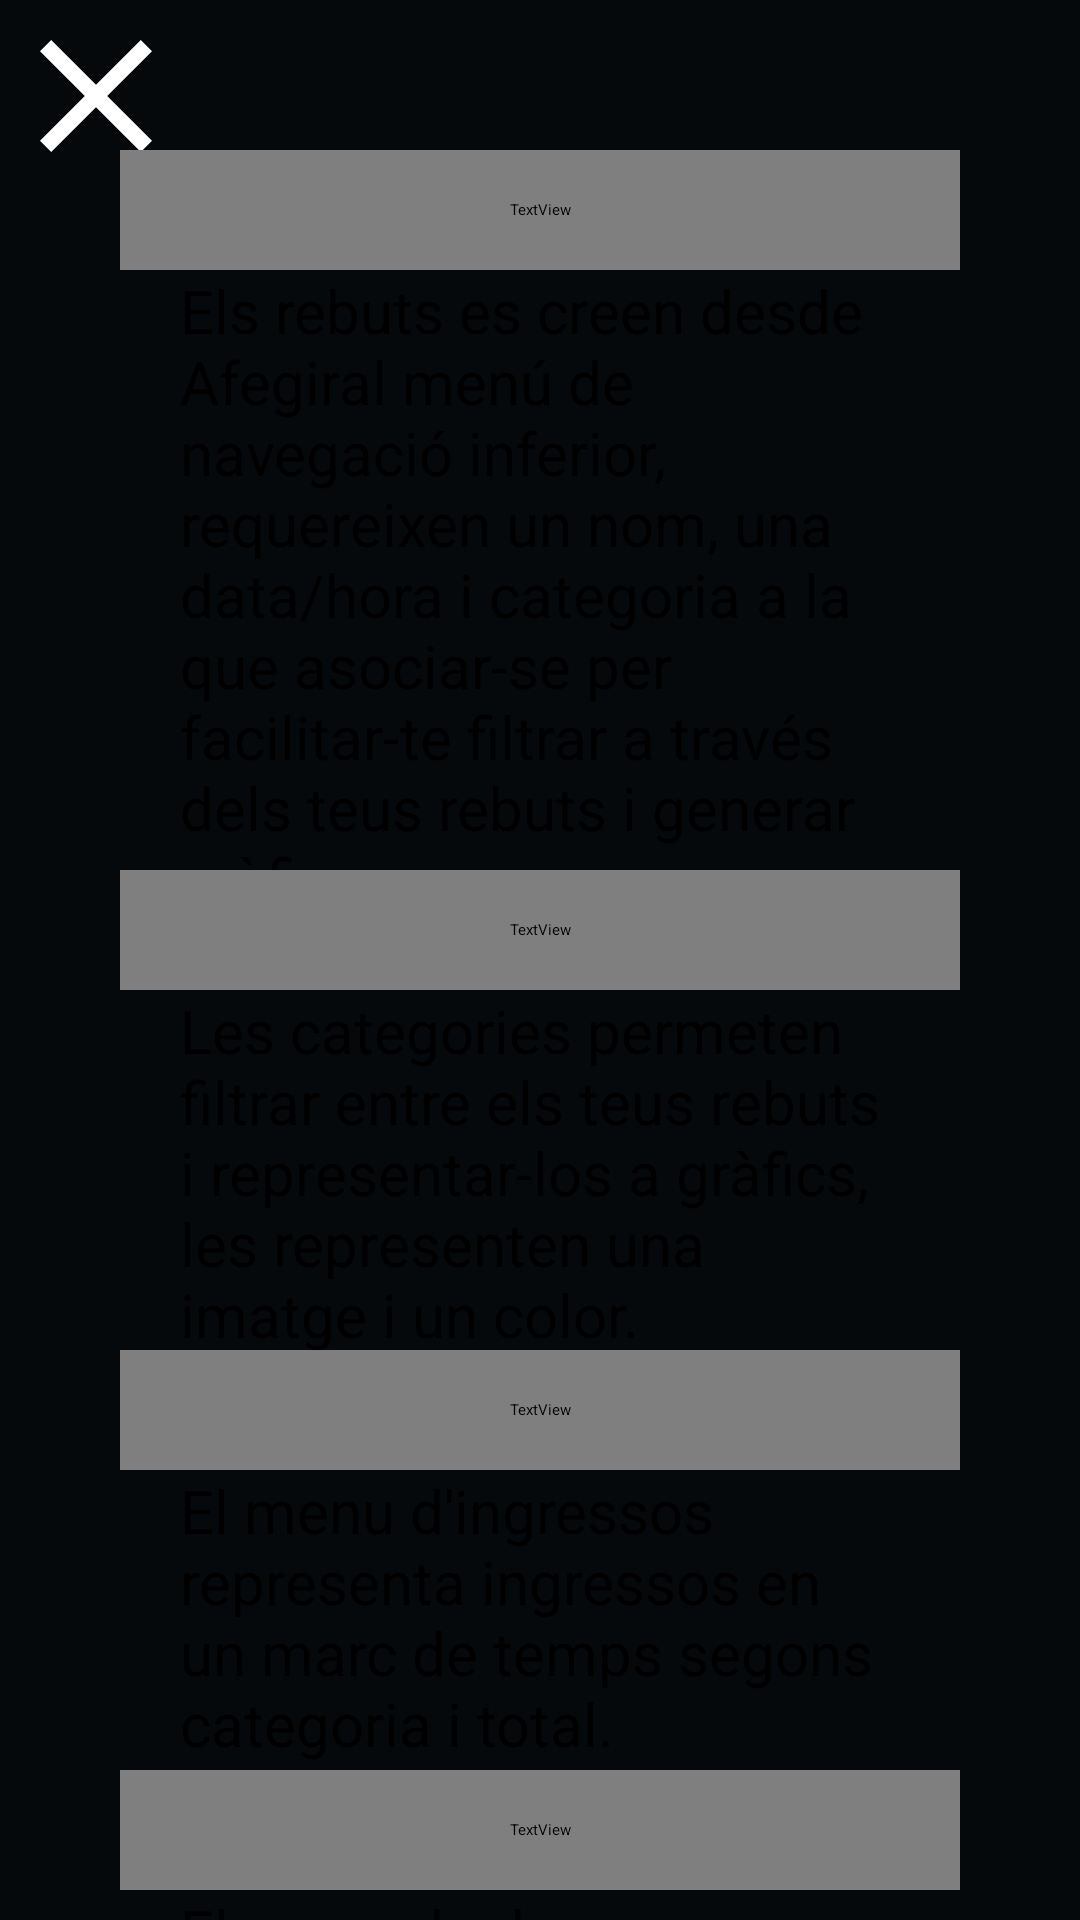

Icon click points for this 1080w x 1920h phone screenshot, format [x,y]:
close: [116,116]
